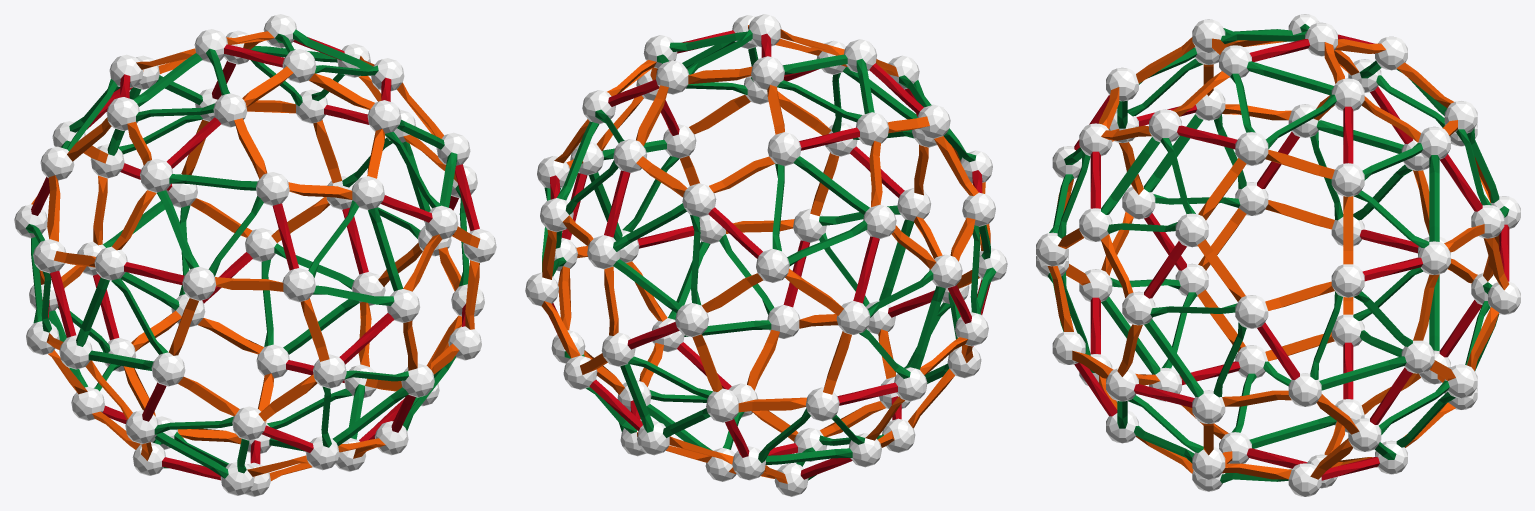
Rendered from RGO-snub-dodec.dae.
The picture shows the model from 3 angles, left to right: view 1: azimuth 30°, elevation 25°; view 2: azimuth 150°, elevation 25°; view 3: azimuth 270°, elevation 25°; orthographic projection.
Visible parts, largest first — view 1: instance120, instance208, instance123, instance85, instance149, instance132, instance80, instance58, instance44, instance187, instance162, instance147 (+94 smaller); view 2: instance52, instance160, instance37, instance207, instance139, instance166, instance76, instance150, instance12, instance161, instance173, instance133 (+97 smaller); view 3: instance25, instance73, instance102, instance202, instance50, instance82, instance159, instance10, instance197, instance104, instance164, instance141 (+106 smaller).
Boxes of the visible parts, left/top/right/bottom form: instance120: left=282, top=268, right=315, bottom=302; instance208: left=182, top=266, right=216, bottom=300; instance123: left=151, top=352, right=185, bottom=386; instance85: left=256, top=172, right=289, bottom=205; instance149: left=368, top=208, right=403, bottom=291; instance132: left=351, top=176, right=384, bottom=210; instance80: left=140, top=159, right=173, bottom=192; instance58: left=367, top=100, right=401, bottom=133; instance44: left=232, top=406, right=265, bottom=440; instance187: left=332, top=387, right=408, bottom=445; instance162: left=313, top=354, right=346, bottom=388; instance147: left=94, top=246, right=127, bottom=280; instance52: left=675, top=303, right=708, bottom=337; instance160: left=756, top=248, right=789, bottom=282; instance37: left=910, top=286, right=945, bottom=369; instance207: left=767, top=132, right=801, bottom=166; instance139: left=706, top=388, right=739, bottom=422; instance166: left=682, top=183, right=716, bottom=217; instance76: left=836, top=301, right=870, bottom=334; instance150: left=793, top=156, right=869, bottom=214; instance12: left=863, top=204, right=896, bottom=238; instance161: left=751, top=56, right=784, bottom=89; instance173: left=805, top=387, right=839, bottom=421; instance133: left=656, top=60, right=689, bottom=94; instance25: left=1144, top=319, right=1203, bottom=397; instance73: left=1101, top=137, right=1160, bottom=214; instance102: left=1319, top=356, right=1406, bottom=390; instance202: left=1246, top=61, right=1333, bottom=95; instance50: left=1429, top=155, right=1439, bottom=241; instance82: left=1331, top=264, right=1364, bottom=297; instance159: left=1249, top=415, right=1336, bottom=448; instance10: left=1331, top=163, right=1364, bottom=196; instance197: left=1235, top=295, right=1268, bottom=328; instance104: left=1175, top=213, right=1208, bottom=247; instance164: left=1235, top=132, right=1268, bottom=165; instance141: left=1288, top=373, right=1321, bottom=406.
Size of the model in its own units: 29.42 by 29.42 by 29.42.
